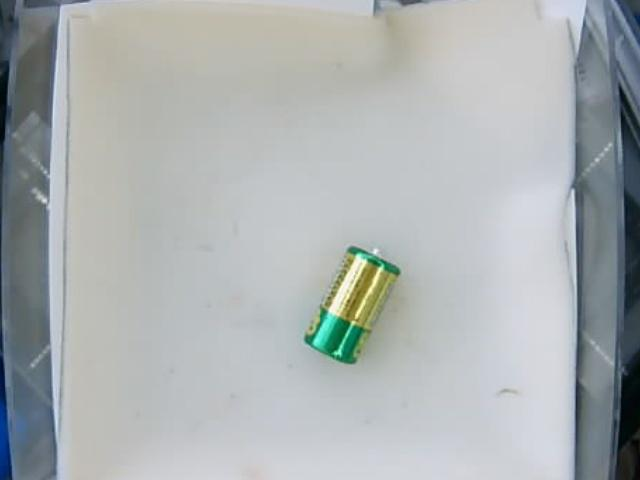Battery: (302, 244, 401, 364)
